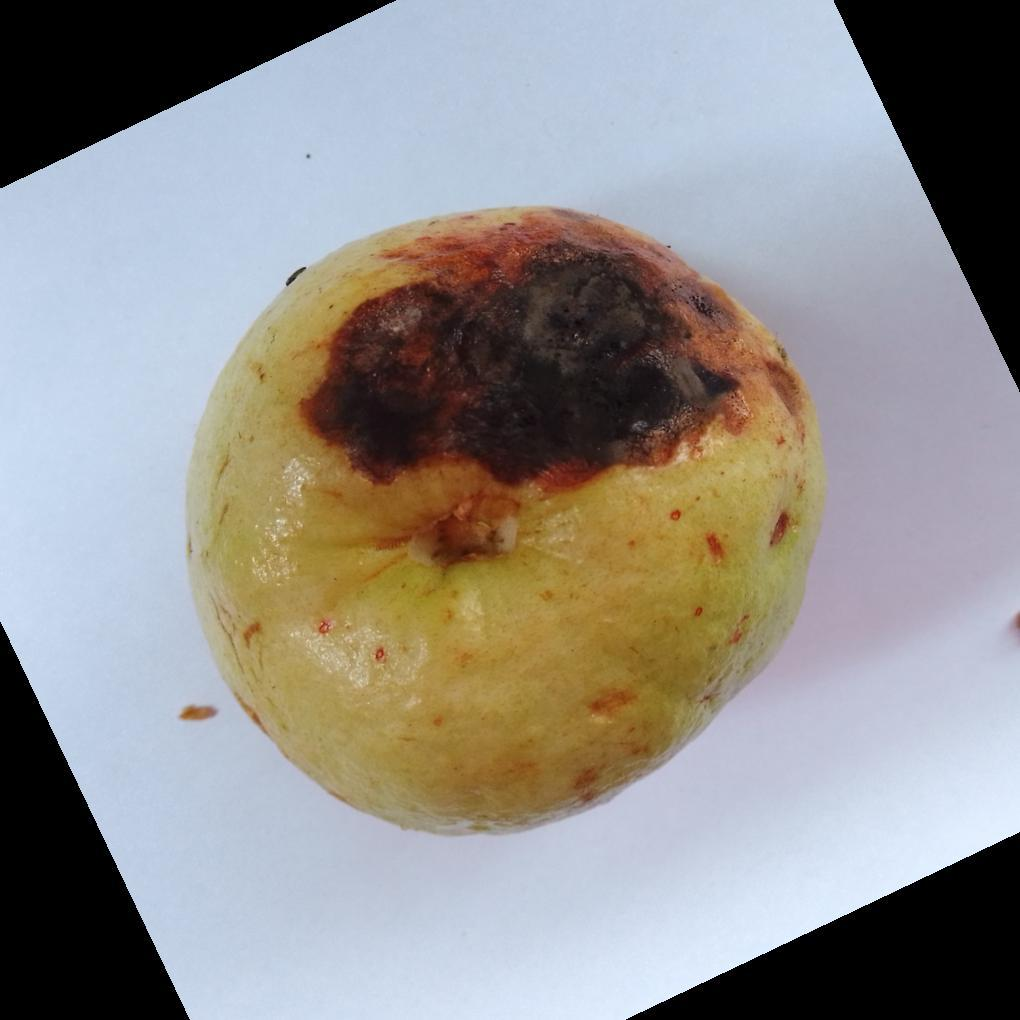FreshOrange: (183, 207, 828, 841)
